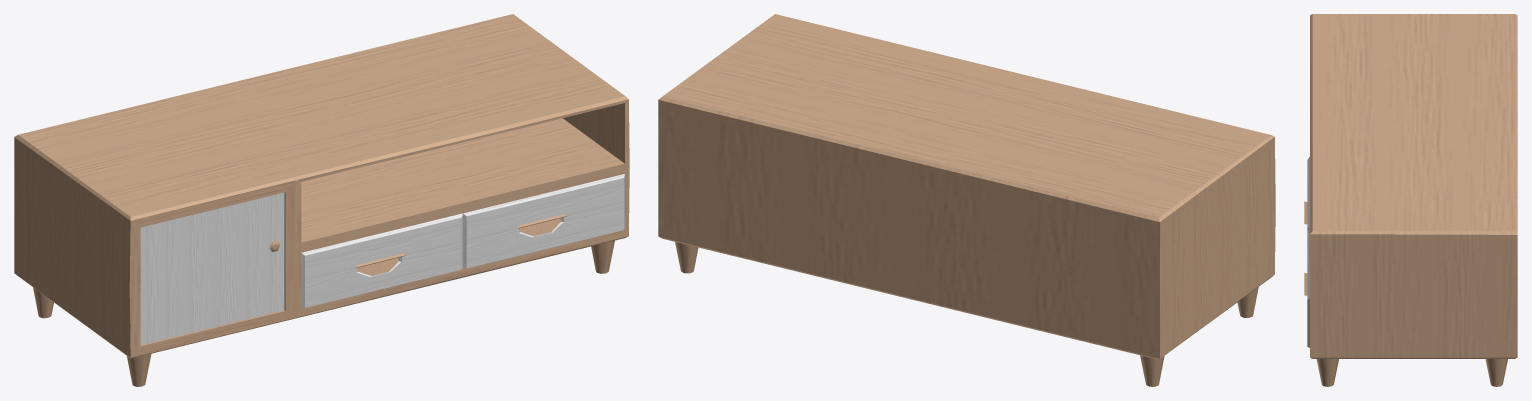
Rendered from Television_Stand_09.FBX.
The picture shows the model from 3 angles, left to right: view 1: azimuth 30°, elevation 25°; view 2: azimuth 150°, elevation 25°; view 3: azimuth 270°, elevation 25°; orthographic projection. The views are drawn at different scales.
Visible parts, largest first — view 1: Television_Stand; view 2: Television_Stand; view 3: Television_Stand.
Boxes of the visible parts, x1=… form: Television_Stand: x1=14, y1=14, x2=629, y2=386; Television_Stand: x1=658, y1=14, x2=1275, y2=386; Television_Stand: x1=1304, y1=14, x2=1517, y2=386.
Bounding box in the file's own units: 425 × 144 × 175.
